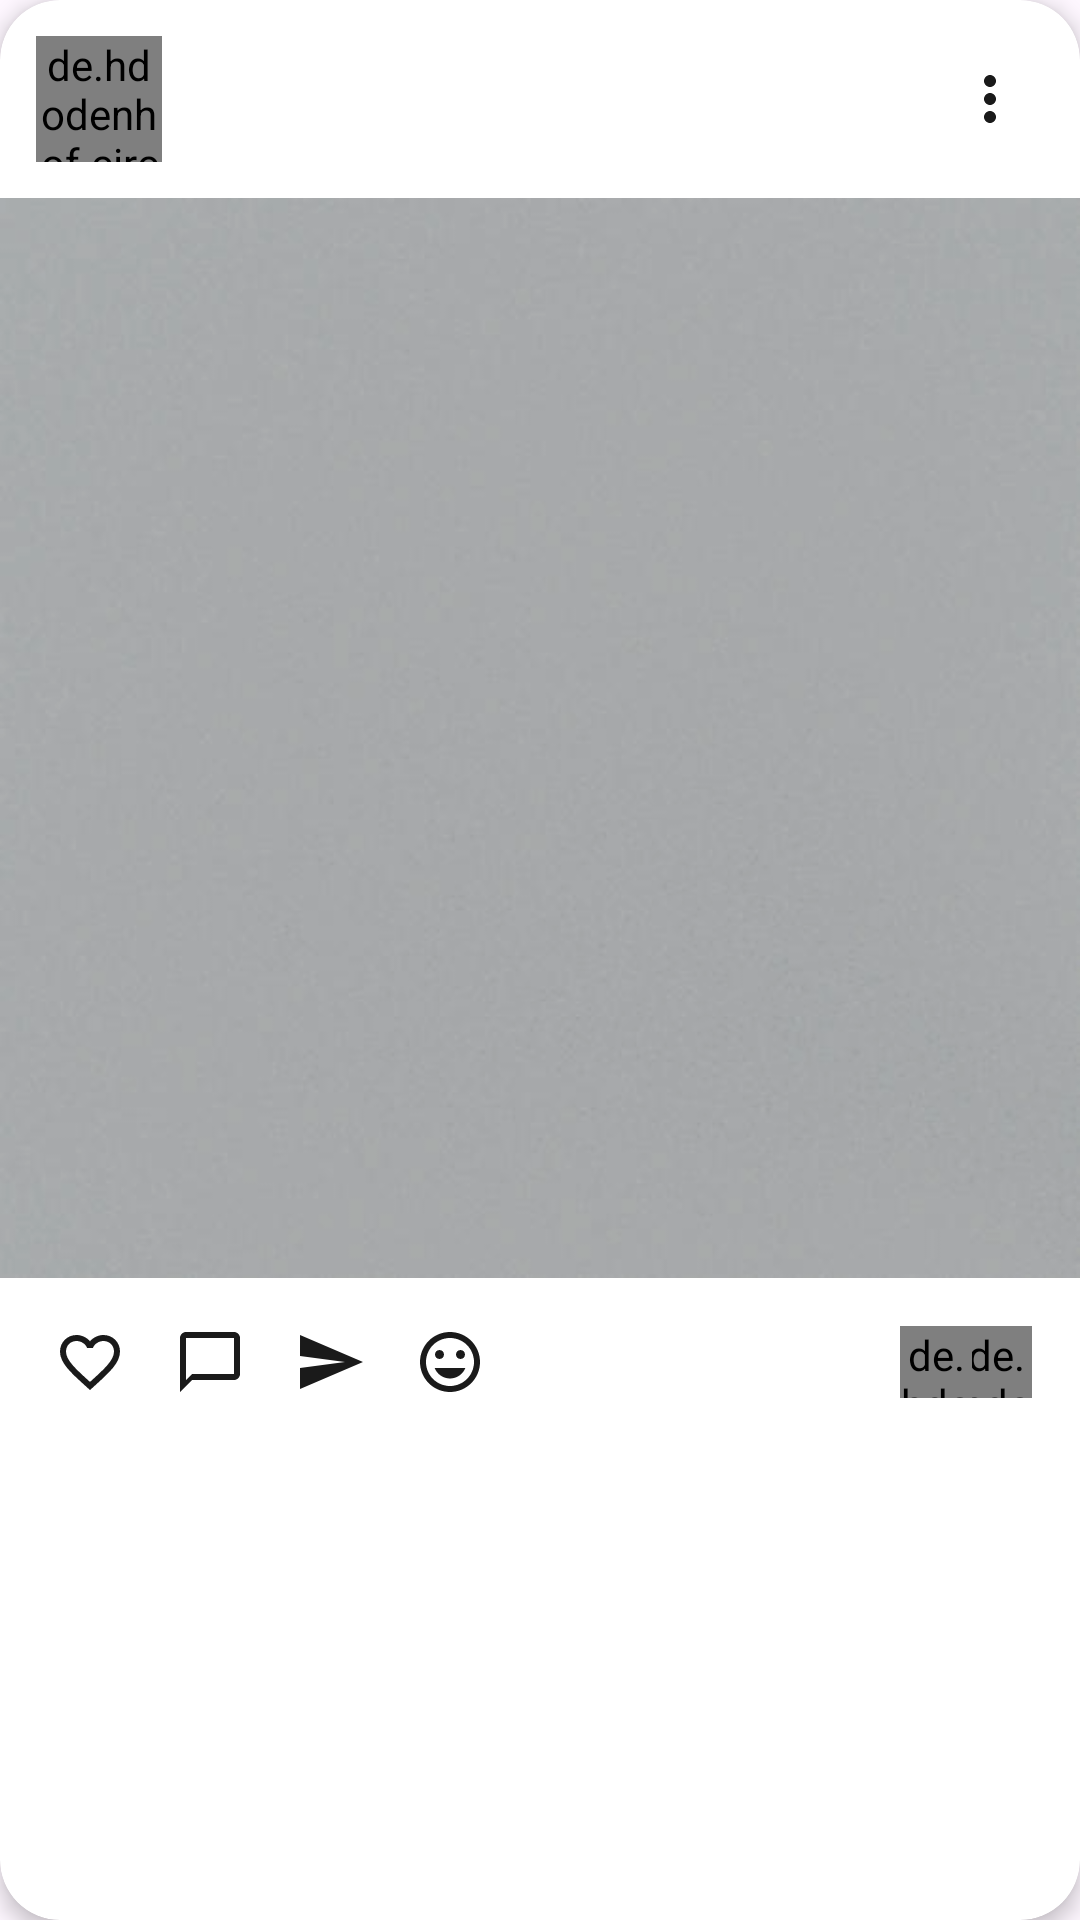

Locate icon controls on the screen. Image size 1080*1920, boxes as bbox=[x1, y1, x2, y2].
post card comment: bbox=[180, 1332, 240, 1392]
post card emoji: bbox=[420, 1332, 480, 1392]
post card heart: bbox=[60, 1335, 120, 1390]
post card options: bbox=[984, 75, 996, 123]
post card send: bbox=[300, 1335, 363, 1389]
